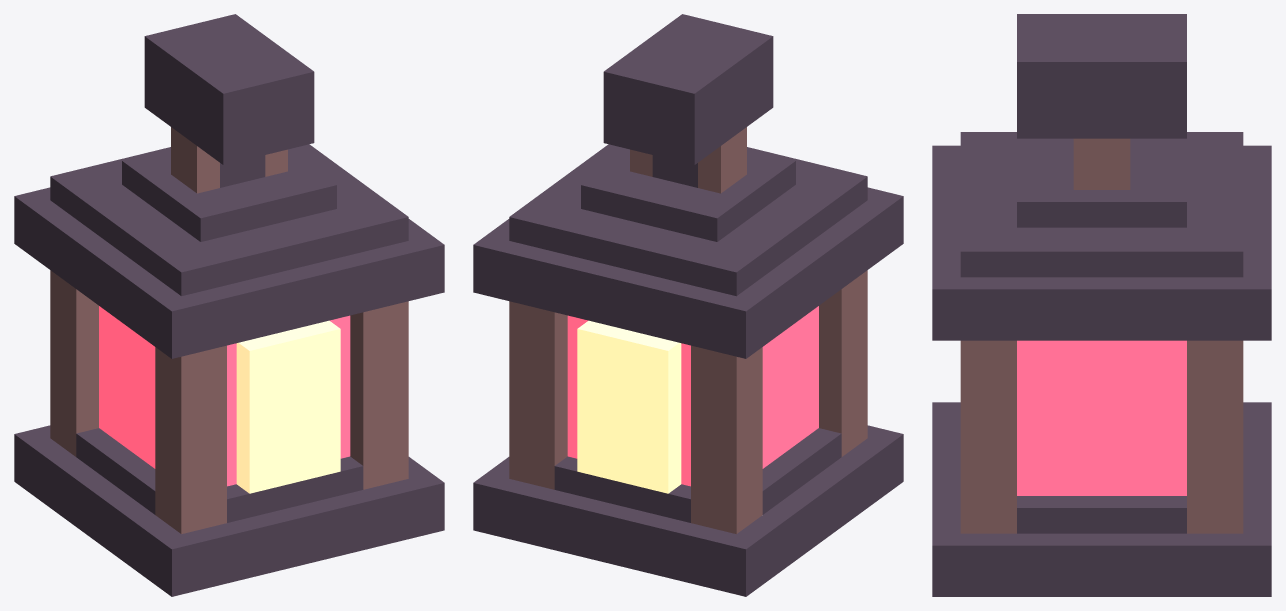
The model's file is hanging_blood_lantern.glb.
3 renders of one model, left to right at view 1: azimuth 30°, elevation 25°; view 2: azimuth 150°, elevation 25°; view 3: azimuth 270°, elevation 25°, orthographic. The views are drawn at different scales.
Size of the model in its own units: 0.5 by 0.7917 by 0.5.
